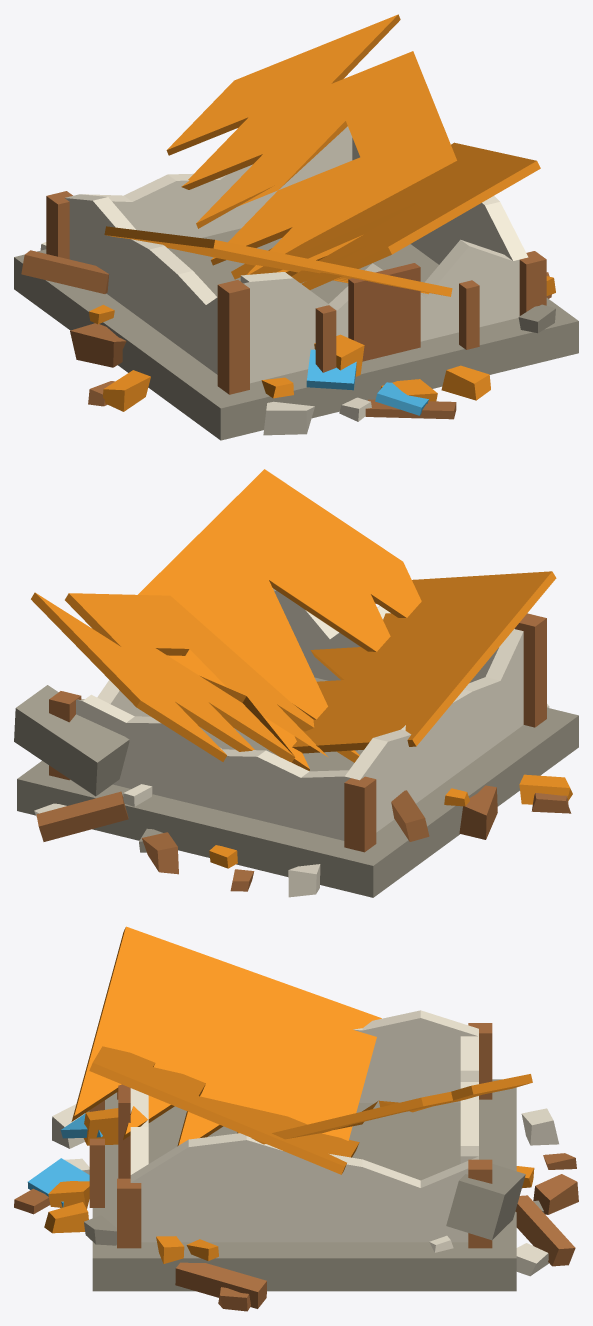
File: house_t2_v4_dmg2.glb
The picture shows the model from 3 angles, top to bottom: view 1: azimuth 30°, elevation 25°; view 2: azimuth 150°, elevation 25°; view 3: azimuth 270°, elevation 25°; orthographic projection. The views are drawn at different scales.
Parts seen in each view (by area): view 1: house_t2_v4_dmg2; view 2: house_t2_v4_dmg2; view 3: house_t2_v4_dmg2.
Part boxes in pixels (left/top/right/bottom): house_t2_v4_dmg2: left=14, top=14, right=578, bottom=440; house_t2_v4_dmg2: left=14, top=469, right=578, bottom=897; house_t2_v4_dmg2: left=14, top=926, right=578, bottom=1311.
Bounding box in the file's own units: 0.9091 × 0.3785 × 0.9329.
Materials: 1 (1 with a texture image).
